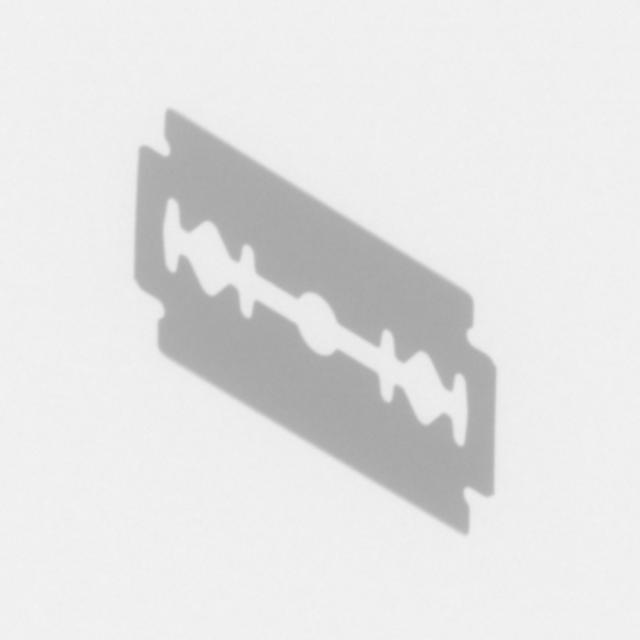razor: (132, 98, 504, 540)
